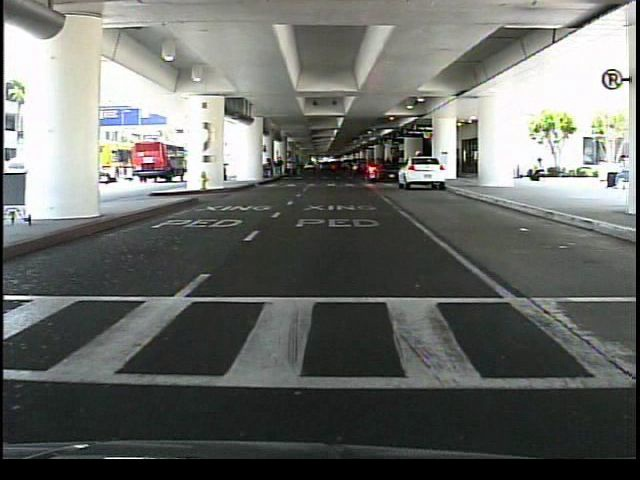person: (523, 153, 551, 190)
